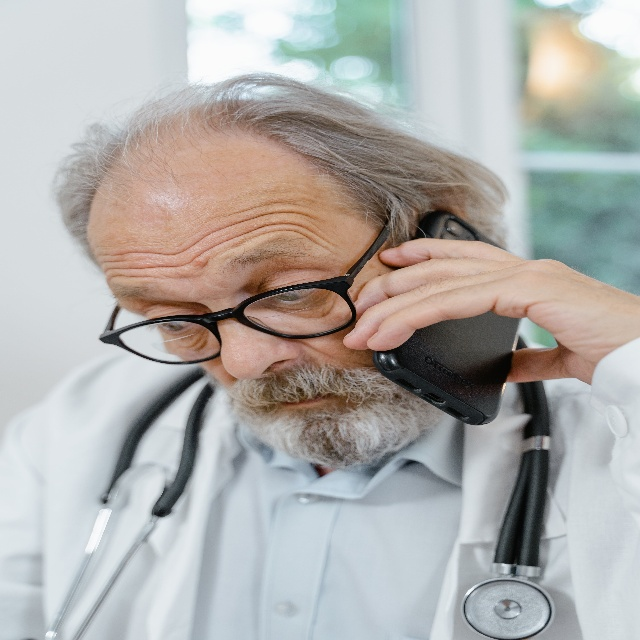Gafas: (91, 213, 394, 370)
Sin_guantes: (342, 237, 640, 388)
